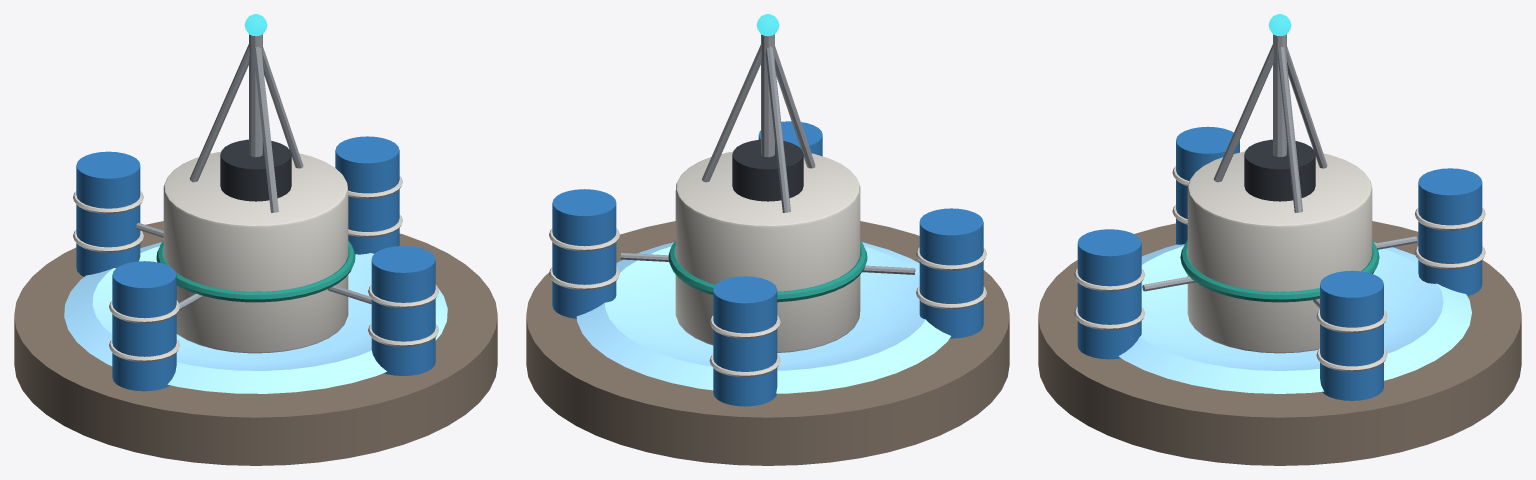
Rendered from glacier_mine.glb.
3 views of the same model, side by side, from view 1: azimuth 30°, elevation 25°; view 2: azimuth 150°, elevation 25°; view 3: azimuth 270°, elevation 25° (orthographic).
Visible parts, largest first — view 1: glacier_mine; view 2: glacier_mine; view 3: glacier_mine.
Boxes of the visible parts, x1,y1,x2,y2 form: glacier_mine: (14, 14, 497, 465); glacier_mine: (526, 14, 1009, 465); glacier_mine: (1038, 14, 1521, 465).
Size of the model in its own units: 6.8 by 5.41 by 6.8.
